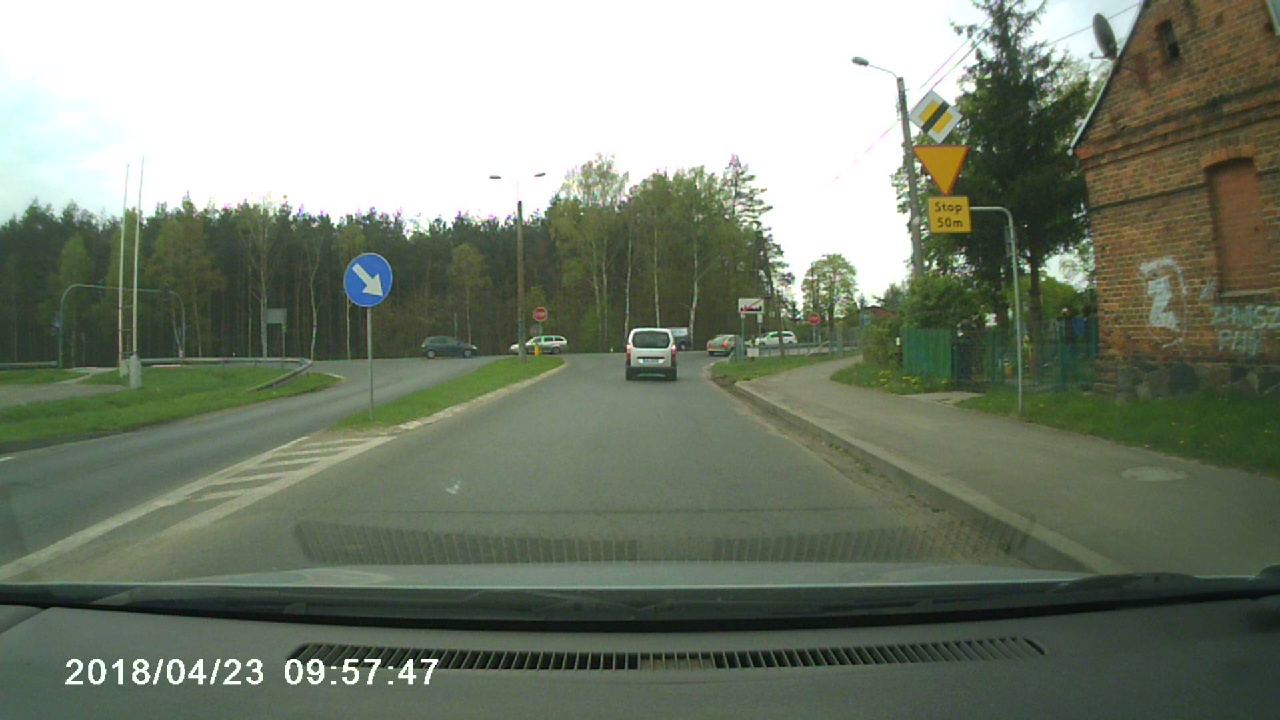A7: (911, 142, 971, 196)
C9: (343, 253, 392, 307)
D2: (908, 90, 963, 145)
